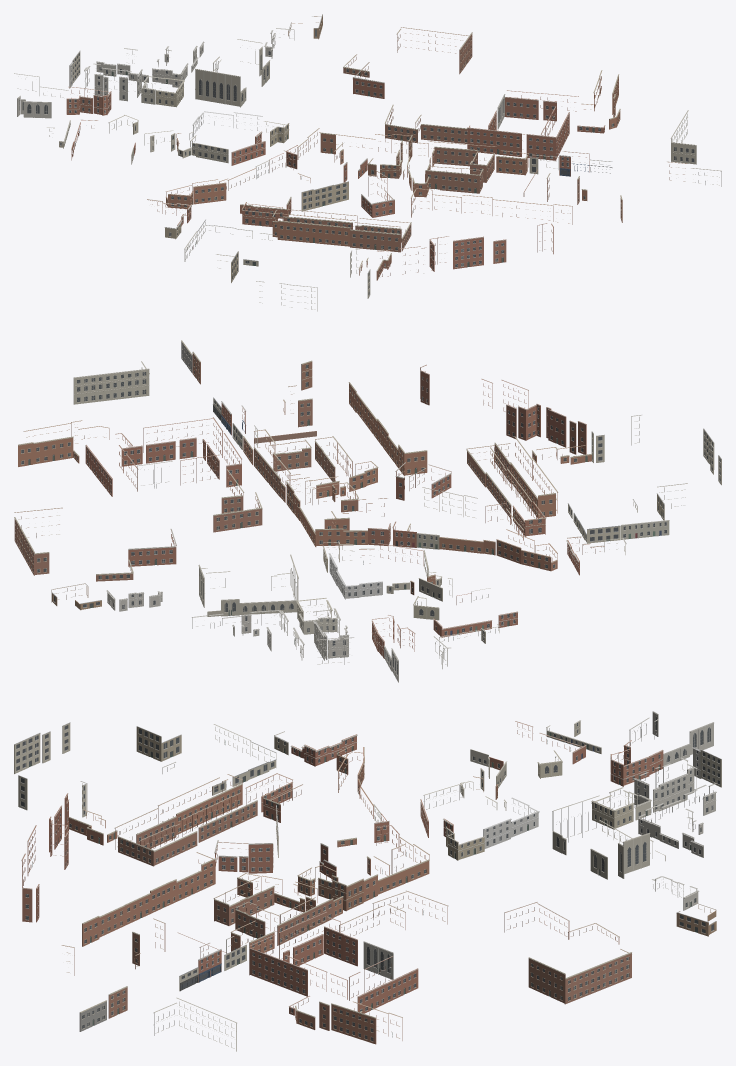
3 views of the same model, one above another, from view 1: azimuth 30°, elevation 25°; view 2: azimuth 150°, elevation 25°; view 3: azimuth 270°, elevation 25° (orthographic). The views are drawn at different scales.
Parts seen in each view (by area): view 1: f:way/137975134, f:way/127761106, f:way/158932407, f:way/26216870, f:way/137992304, f:way/137975128, f:way/127761112, f:way/137983081, f:way/137983075, f:way/26216792, f:way/137975131, f:way/137983096 (+16 smaller); view 2: f:way/158932407, f:way/137975134, f:way/500913818, f:way/137983075, f:way/23694373, f:way/127761106, f:way/137983089, f:way/23694402, f:way/137975128, f:way/137983081, f:way/26216870, f:way/137983087 (+18 smaller); view 3: f:way/137975134, f:way/23694373, f:way/1204142218, f:way/127761106, f:way/137992304, f:way/137983081, f:way/23694402, f:way/158932420, f:way/137983085, f:way/26216870, f:way/127761110, f:way/158932407 (+24 smaller).
Part boxes in pixels (x1,y1,x2,y2): f:way/137975134: [467, 106, 569, 160]; f:way/127761106: [195, 39, 270, 107]; f:way/158932407: [377, 223, 553, 277]; f:way/26216870: [272, 210, 354, 246]; f:way/137992304: [350, 218, 411, 252]; f:way/137975128: [384, 104, 467, 143]; f:way/127761112: [96, 41, 204, 87]; f:way/137983081: [428, 141, 496, 182]; f:way/137983075: [166, 168, 255, 208]; f:way/26216792: [425, 166, 483, 193]; f:way/137975131: [504, 90, 578, 121]; f:way/137983096: [301, 181, 348, 211]; f:way/158932407: [420, 364, 586, 454]; f:way/137975134: [121, 417, 241, 487]; f:way/500913818: [73, 361, 149, 404]; f:way/137983075: [439, 529, 557, 571]; f:way/23694373: [348, 382, 427, 475]; f:way/127761106: [198, 554, 298, 616]; f:way/137983089: [293, 493, 367, 546]; f:way/23694402: [18, 420, 109, 466]; f:way/137975128: [213, 469, 262, 532]; f:way/137983081: [254, 439, 311, 497]; f:way/26216870: [510, 458, 558, 518]; f:way/137983087: [280, 461, 378, 502]; f:way/137975134: [249, 912, 357, 999]; f:way/23694373: [82, 852, 215, 946]; f:way/1204142218: [528, 949, 631, 1004]; f:way/127761106: [552, 795, 665, 879]; f:way/137992304: [114, 808, 197, 866]; f:way/137983081: [235, 897, 333, 945]; f:way/23694402: [295, 1001, 402, 1044]; f:way/158932420: [14, 722, 87, 817]; f:way/137983085: [214, 840, 336, 878]; f:way/26216870: [158, 774, 242, 834]; f:way/127761110: [633, 757, 697, 812]; f:way/158932407: [21, 793, 69, 922].
Bounding box in the file's own units: 263 × 21.55 × 256.
